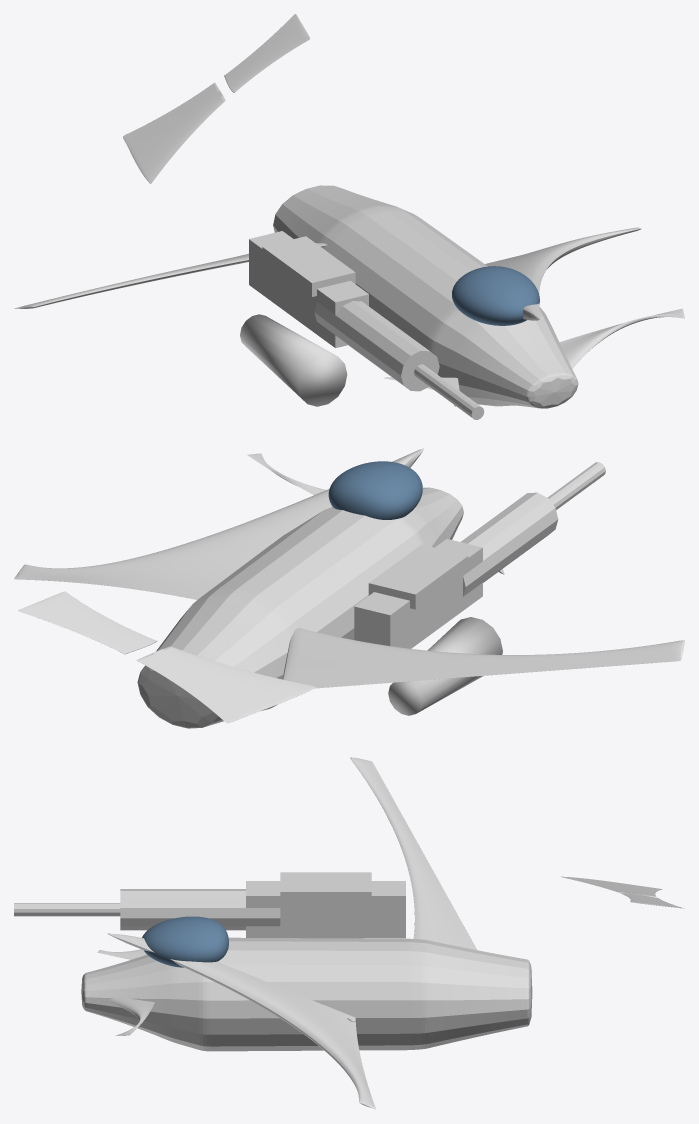
3 views of the same model, one above another, from view 1: azimuth 30°, elevation 25°; view 2: azimuth 150°, elevation 25°; view 3: azimuth 270°, elevation 25° (orthographic). The views are drawn at different scales.
Parts seen in each view (by area): view 1: assembly_01_Body, assembly_07_WeaponWing, assembly_04_Tail, assembly_06_EnginePod0, assembly_05_Canopy, assembly_02_WingMain, assembly_08_AileronWing, assembly_03_WingSub; view 2: assembly_01_Body, assembly_07_WeaponWing, assembly_08_AileronWing, assembly_02_WingMain, assembly_04_Tail, assembly_05_Canopy, assembly_06_EnginePod0, assembly_03_WingSub; view 3: assembly_01_Body, assembly_07_WeaponWing, assembly_02_WingMain, assembly_08_AileronWing, assembly_05_Canopy, assembly_04_Tail, assembly_03_WingSub.
Part boxes in pixels (x1,y1,x2,y2): assembly_01_Body: (273,185,578,408); assembly_07_WeaponWing: (249,231,484,419); assembly_04_Tail: (123,14,310,183); assembly_06_EnginePod0: (240,314,347,406); assembly_05_Canopy: (452,266,539,325); assembly_02_WingMain: (485,227,641,320); assembly_08_AileronWing: (14,243,327,308); assembly_03_WingSub: (559,308,684,368); assembly_01_Body: (137,487,463,728); assembly_07_WeaponWing: (354,462,605,648); assembly_08_AileronWing: (282,627,684,688); assembly_02_WingMain: (14,448,424,599); assembly_04_Tail: (18,591,315,723); assembly_05_Canopy: (328,461,422,519); assembly_06_EnginePod0: (388,617,502,715); assembly_03_WingSub: (247,453,325,494); assembly_01_Body: (81,937,532,1051); assembly_07_WeaponWing: (14,872,405,938); assembly_02_WingMain: (107,933,375,1109); assembly_08_AileronWing: (350,757,476,949); assembly_05_Canopy: (142,916,228,967); assembly_04_Tail: (561,876,684,908); assembly_03_WingSub: (107,998,154,1035).
Bounding box in the file's own units: 5.31 × 1.47 × 5.37.
